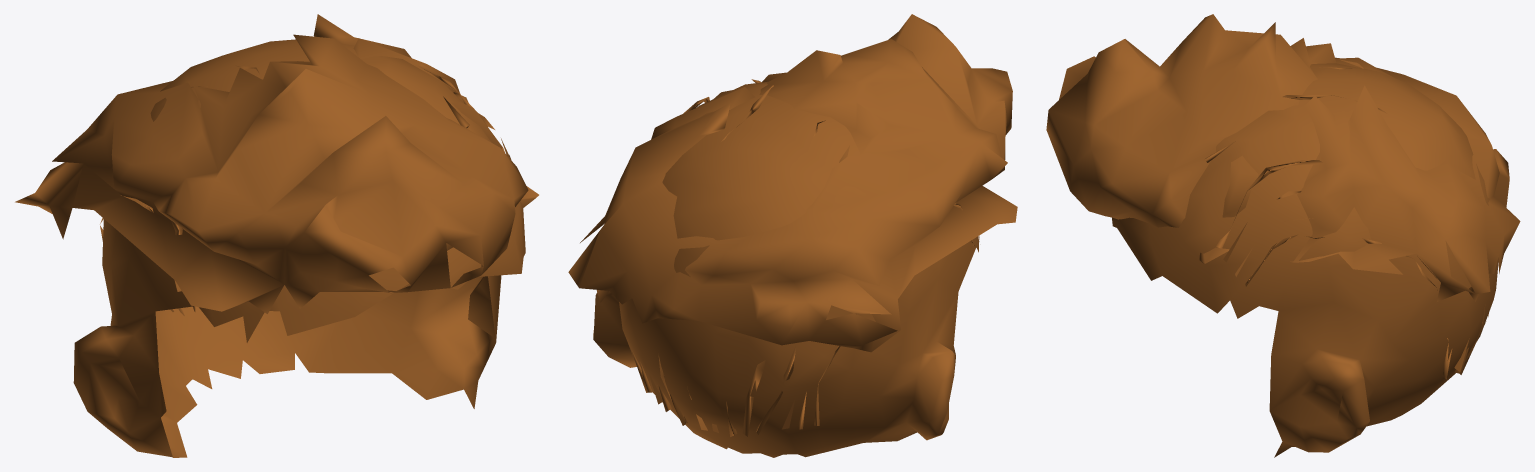
Rendered from quiff.glb.
The picture shows the model from 3 angles, left to right: view 1: azimuth 30°, elevation 25°; view 2: azimuth 150°, elevation 25°; view 3: azimuth 270°, elevation 25°; orthographic projection. The views are drawn at different scales.
Parts seen in each view (by area): view 1: Hair, HairScalp, HairPulledRootStrands; view 2: Hair, HairScalp, HairPulledRootStrands; view 3: HairScalp, Hair, HairPulledRootStrands.
Boxes of the visible parts, box(x1,y1,x2,y2) form: Hair: box(15, 14, 538, 313); HairScalp: box(73, 39, 525, 457); HairPulledRootStrands: box(100, 63, 511, 315); Hair: box(568, 14, 1017, 352); HairScalp: box(593, 81, 979, 457); HairPulledRootStrands: box(629, 79, 977, 436); HairScalp: box(1112, 63, 1498, 457); Hair: box(1046, 14, 1520, 301); HairPulledRootStrands: box(1204, 59, 1488, 379).
Bounding box in the file's own units: 0.4688 × 0.4489 × 0.5355.
